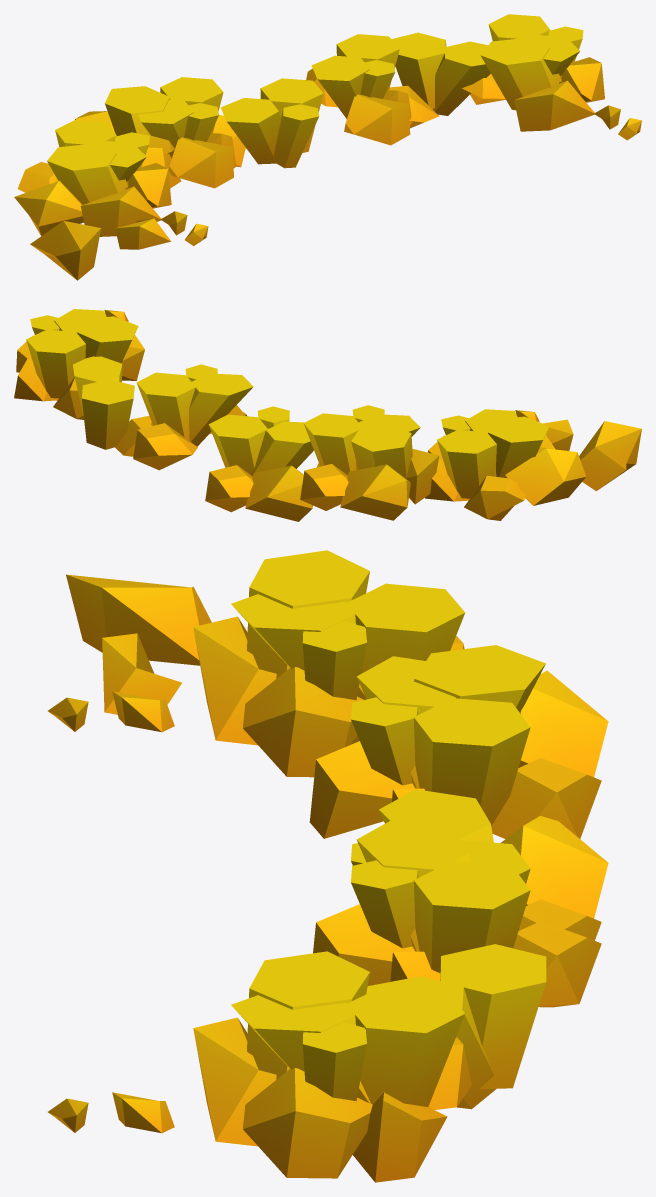
Rendered from M_Star_area.fbx.
The picture shows the model from 3 angles, top to bottom: view 1: azimuth 30°, elevation 25°; view 2: azimuth 150°, elevation 25°; view 3: azimuth 270°, elevation 25°; orthographic projection. The views are drawn at different scales.
Visible parts, largest first — view 1: M_Star_area; view 2: M_Star_area; view 3: M_Star_area.
Part boxes in pixels (x1,y1,x2,y2): M_Star_area: (14,14,641,280); M_Star_area: (14,309,641,521); M_Star_area: (48,550,608,1182).
Size of the model in its own units: 370 by 57.35 by 157.
